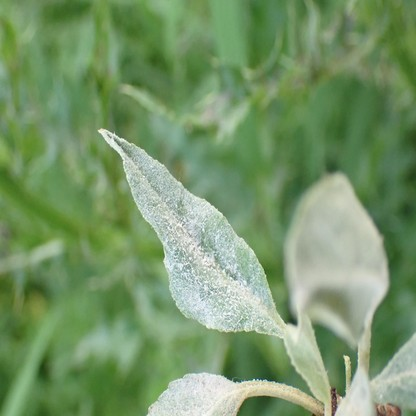powder: (97, 126, 283, 337), (148, 370, 245, 416), (371, 331, 416, 416)
